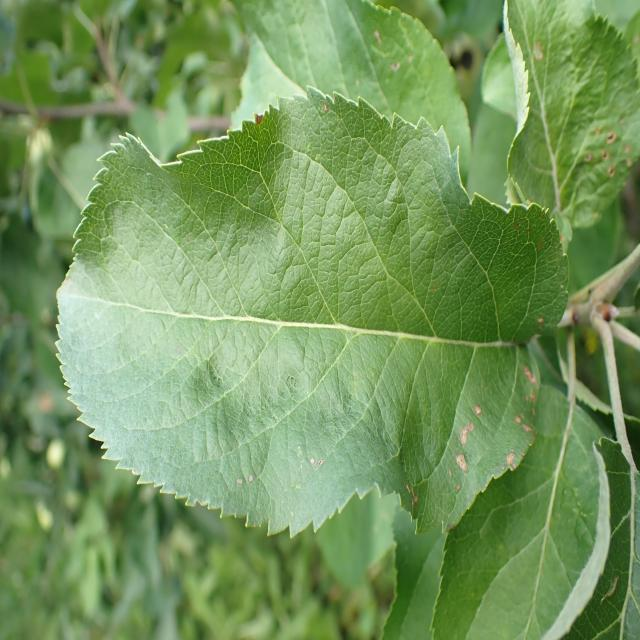Black Rot: (434, 360, 566, 524)
